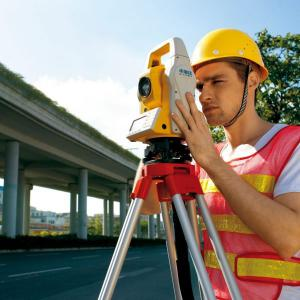yellow: (192, 28, 269, 131)
